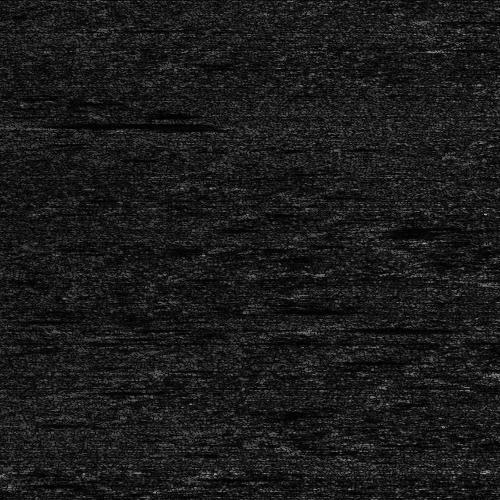object: (262, 323, 377, 332), (0, 119, 68, 128), (386, 16, 469, 23), (233, 305, 296, 312), (141, 108, 204, 113), (482, 367, 500, 376)
shadow: (10, 119, 162, 128), (320, 323, 448, 332), (265, 305, 364, 312), (428, 16, 500, 23), (173, 108, 247, 113)
